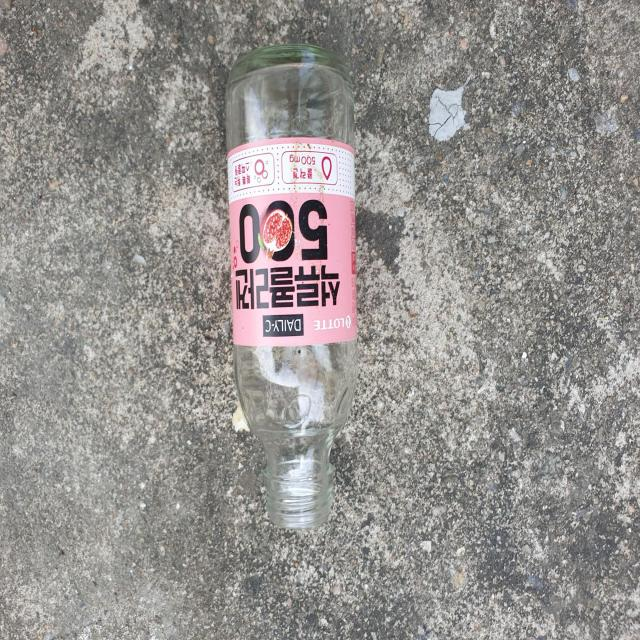glass: (226, 44, 357, 529)
